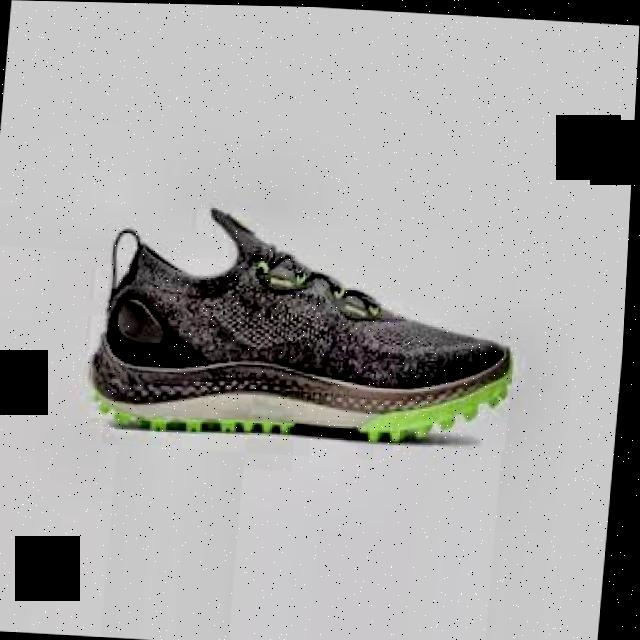shoe: (86, 198, 528, 449)
